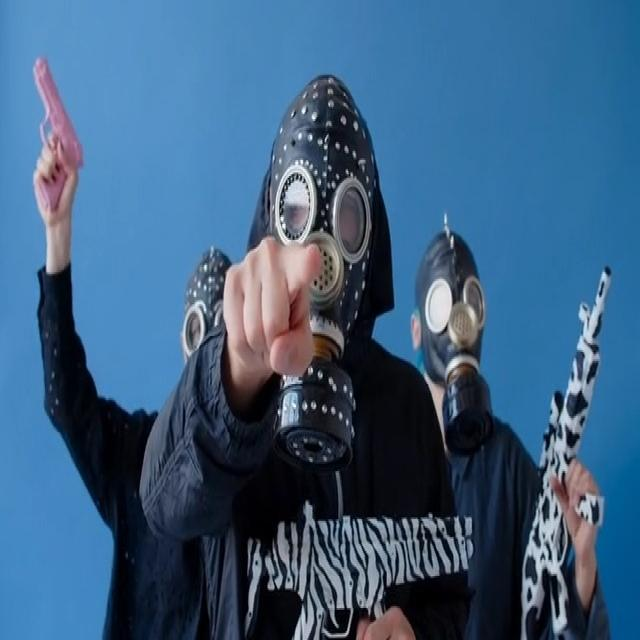Gun_Holder: (490, 231, 640, 640), (21, 36, 98, 258)
Person: (147, 46, 474, 640), (405, 188, 620, 640)
